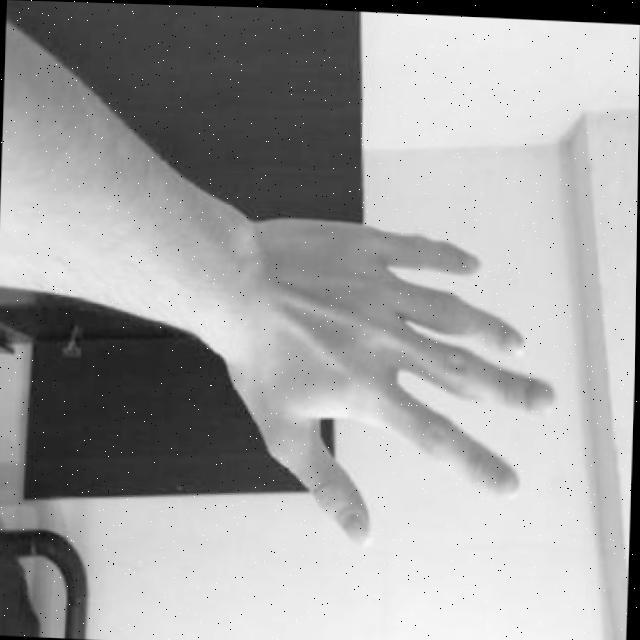no-gloves: (244, 213, 562, 553)
